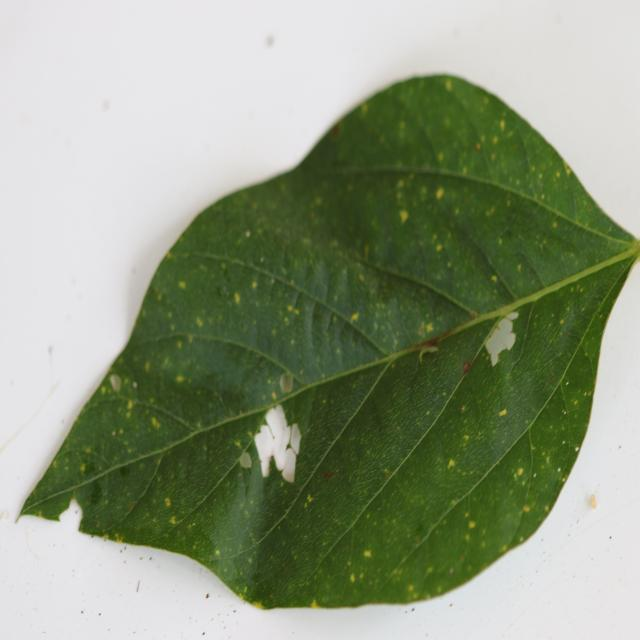Soybean: (20, 75, 640, 614)
downey_mildew: (107, 409, 249, 549), (429, 106, 529, 199), (373, 162, 450, 270), (90, 386, 184, 468), (447, 382, 519, 469), (101, 538, 166, 592), (88, 481, 103, 505), (220, 263, 230, 284), (119, 464, 131, 477), (398, 209, 408, 224), (414, 523, 424, 537), (435, 187, 444, 199), (425, 322, 434, 333), (350, 312, 359, 322), (196, 316, 204, 327), (447, 458, 455, 469), (363, 549, 372, 558), (310, 599, 319, 608), (407, 583, 415, 593), (233, 292, 240, 303), (445, 80, 452, 91), (234, 439, 242, 448), (176, 375, 184, 383), (179, 280, 186, 289), (169, 516, 176, 525), (469, 520, 476, 529), (127, 400, 133, 410), (350, 573, 356, 583), (426, 566, 433, 574), (474, 143, 481, 151), (438, 153, 444, 162), (331, 315, 337, 324), (500, 120, 505, 130), (463, 434, 470, 441), (523, 505, 530, 512), (80, 464, 86, 472), (271, 391, 277, 399), (113, 532, 119, 540), (415, 535, 421, 543), (252, 280, 257, 289), (287, 305, 293, 312), (491, 275, 497, 282), (247, 430, 253, 437), (493, 136, 498, 144), (465, 534, 470, 542), (461, 405, 466, 412), (559, 319, 564, 325), (573, 399, 578, 405), (425, 410, 430, 416), (545, 505, 549, 512), (442, 391, 447, 396), (588, 205, 592, 210)
